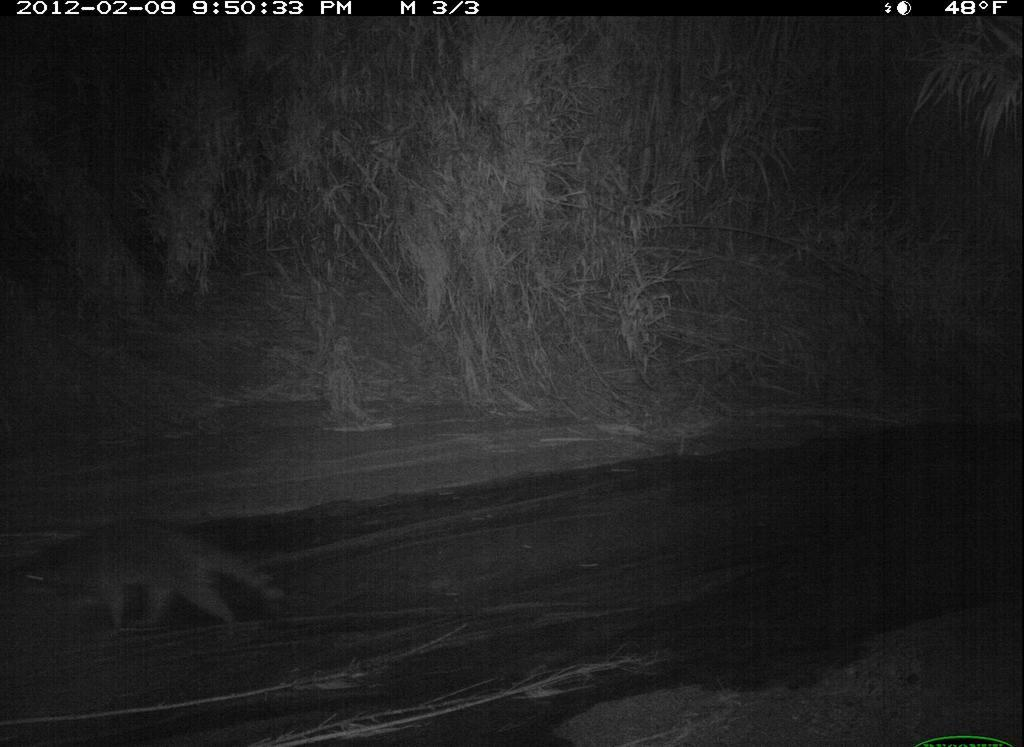raccoon: (9, 504, 296, 657)
